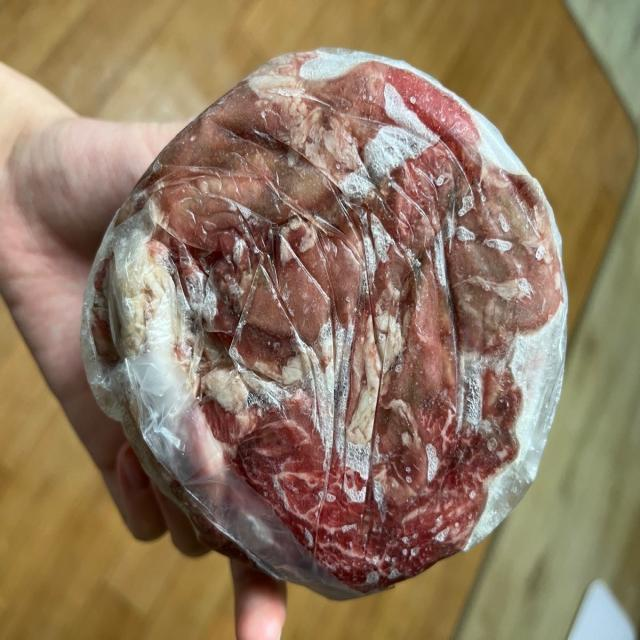beef: (166, 113, 500, 528)
